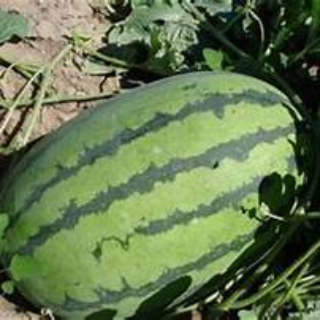dua_hau: (1, 71, 310, 318)
